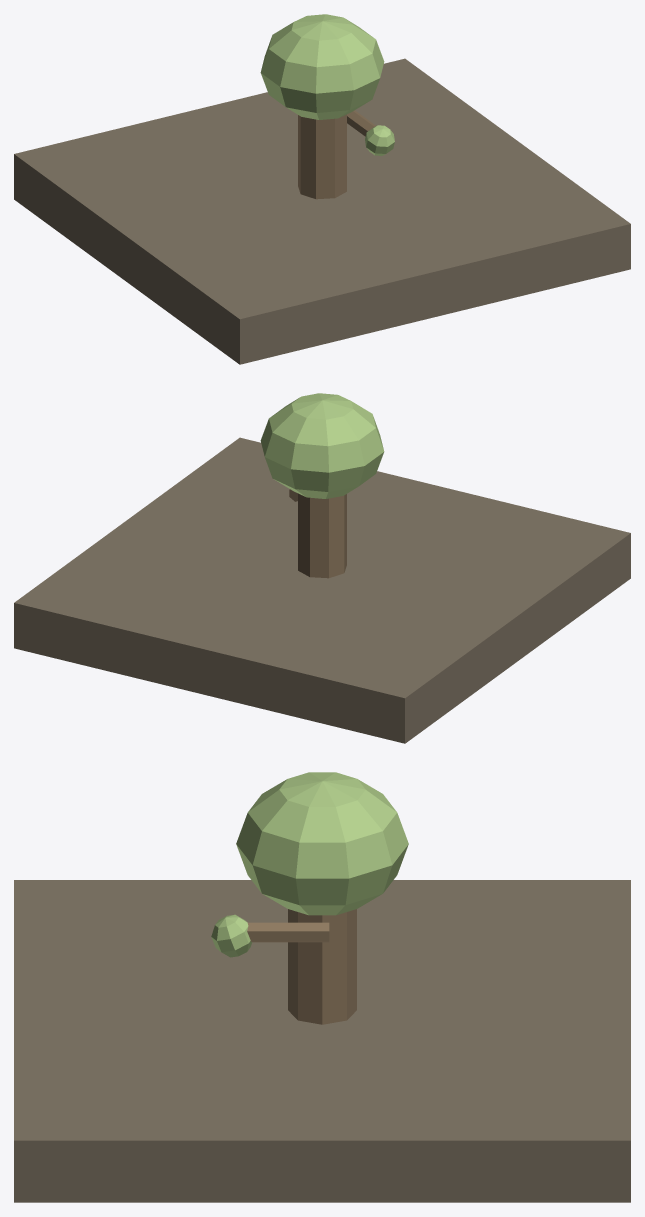
File: elf_sapling.glb
The picture shows the model from 3 angles, top to bottom: view 1: azimuth 30°, elevation 25°; view 2: azimuth 150°, elevation 25°; view 3: azimuth 270°, elevation 25°; orthographic projection. The views are drawn at different scales.
Visible parts, largest first — view 1: Base, TurretMesh, BranchMesh; view 2: Base, TurretMesh; view 3: Base, TurretMesh, BranchMesh.
Boxes of the visible parts, box(x1,y1,x2,y2) form: Base: box(14, 58, 630, 364); TurretMesh: box(260, 14, 384, 199); BranchMesh: box(347, 110, 394, 155); Base: box(14, 437, 630, 743); TurretMesh: box(260, 393, 384, 578); Base: box(14, 880, 630, 1202); TurretMesh: box(236, 772, 408, 1024); BranchMesh: box(211, 914, 329, 957).
Bounding box in the file's own units: 1.8 × 0.9371 × 1.8.
